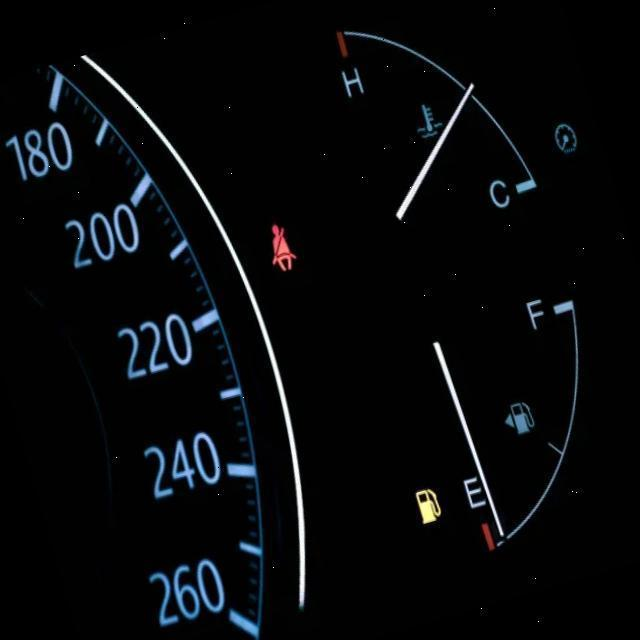Seat Belt: (266, 222, 299, 272)
